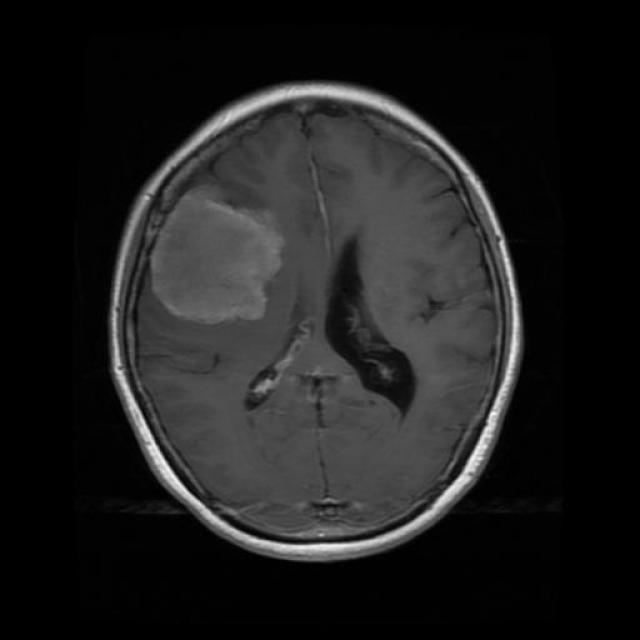Meningioma: (151, 189, 283, 324)
